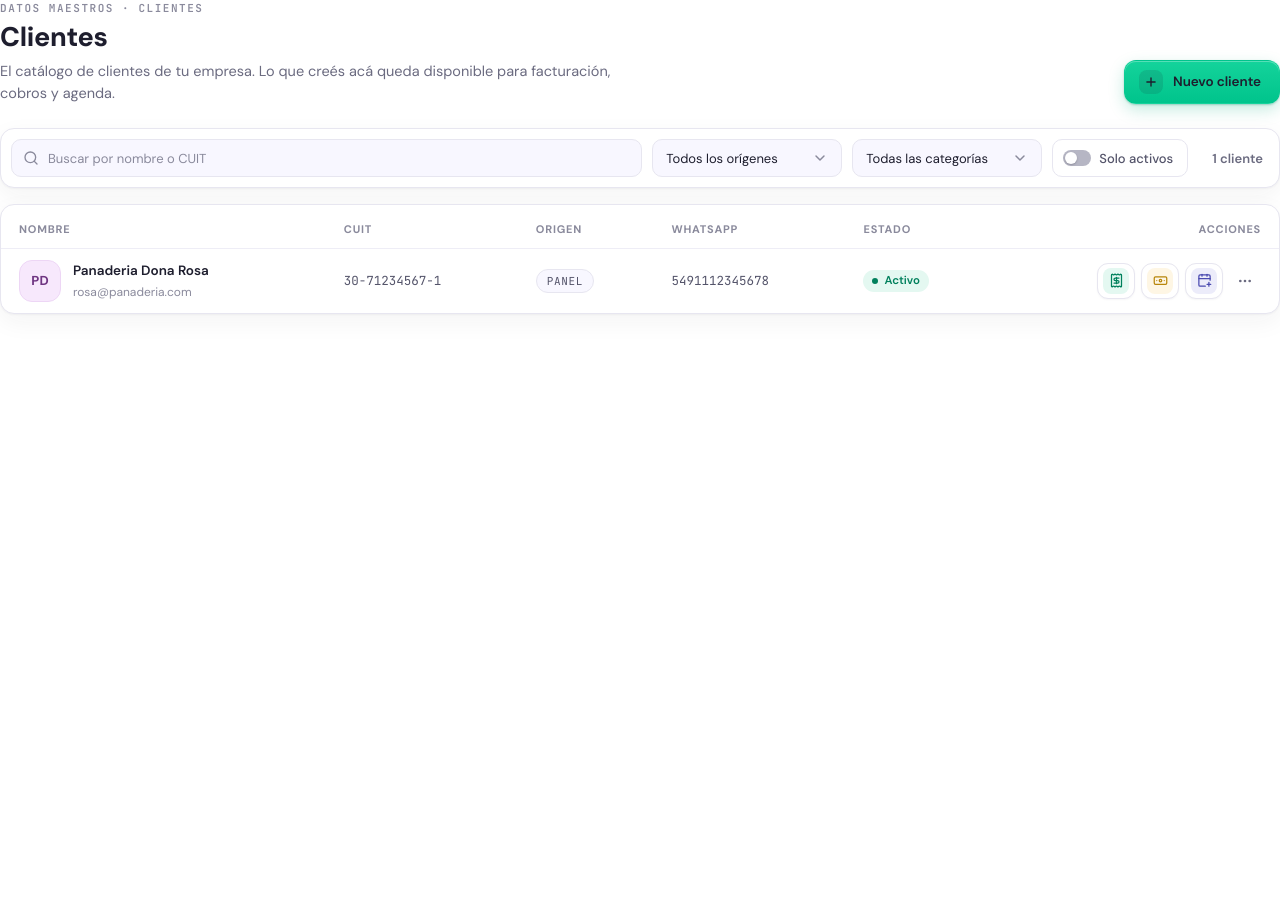
ListadoDeClientes › un fallo que no es del catalogo muestra un mensaje generico
Click the button "Nuevo cliente": (1202, 82) [1124,60,1279,104]
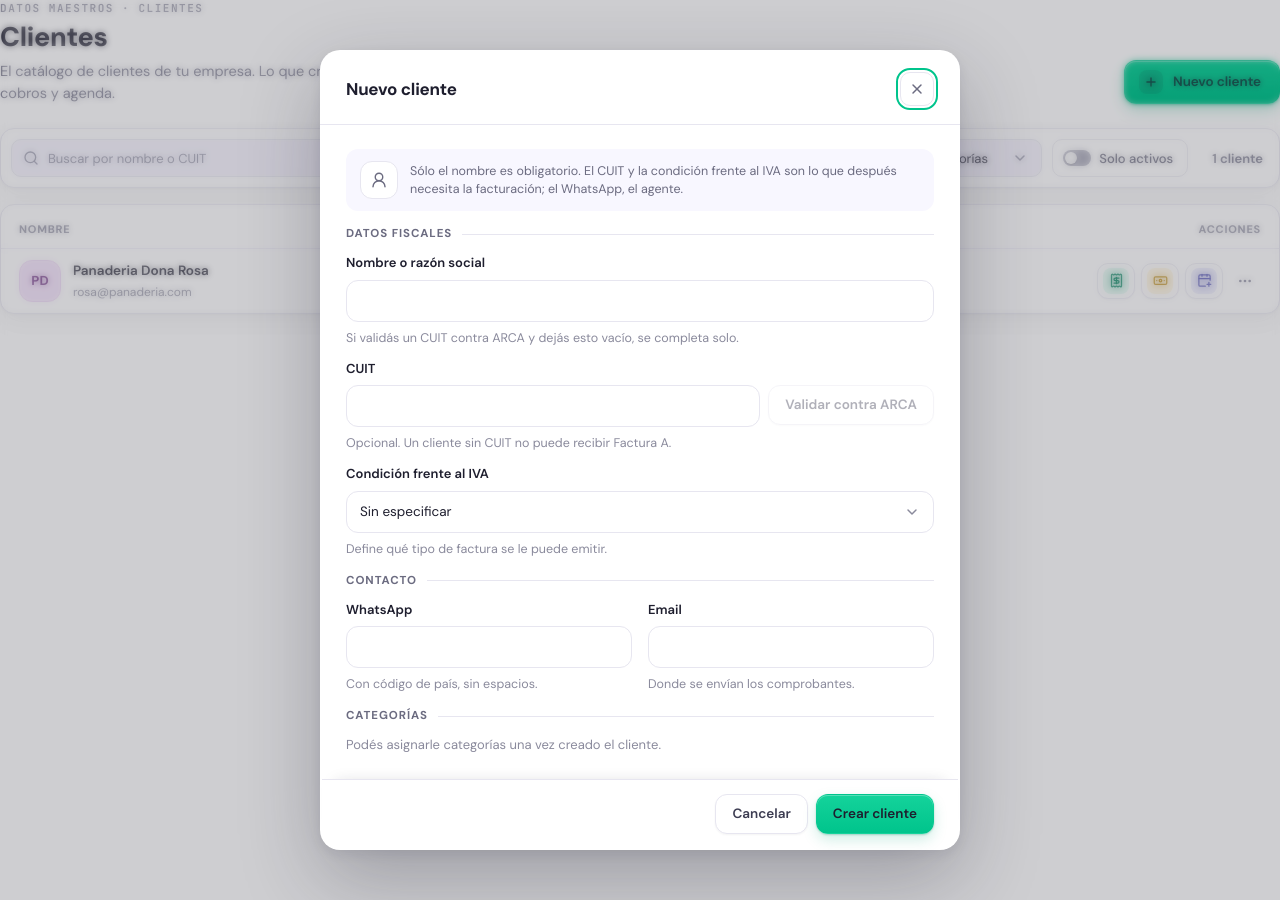
In the field labelled "Nombre o razón social": (640, 301) [346,280,934,322], type "Rosa"
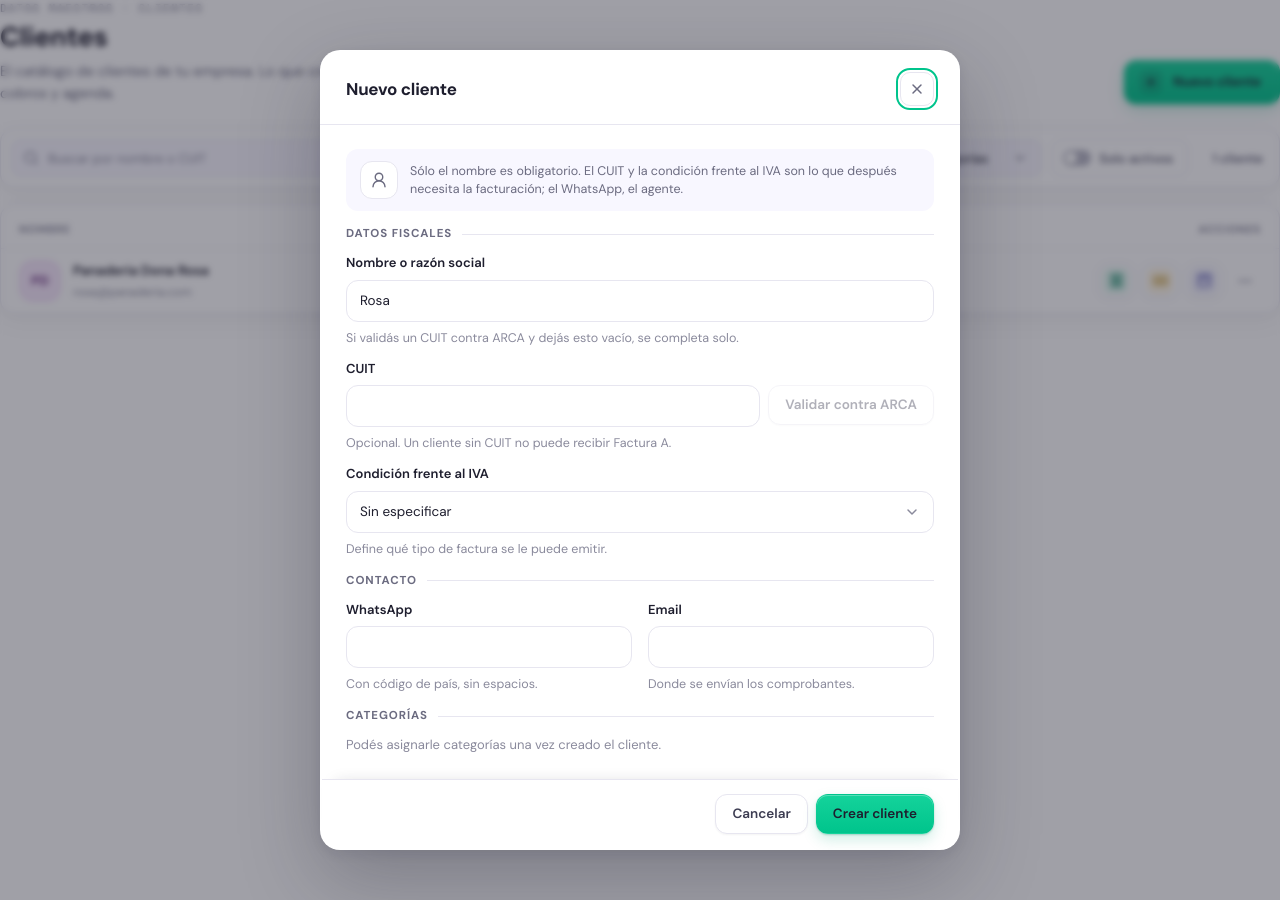
Click the button "Crear cliente": (875, 814) [816,794,934,834]
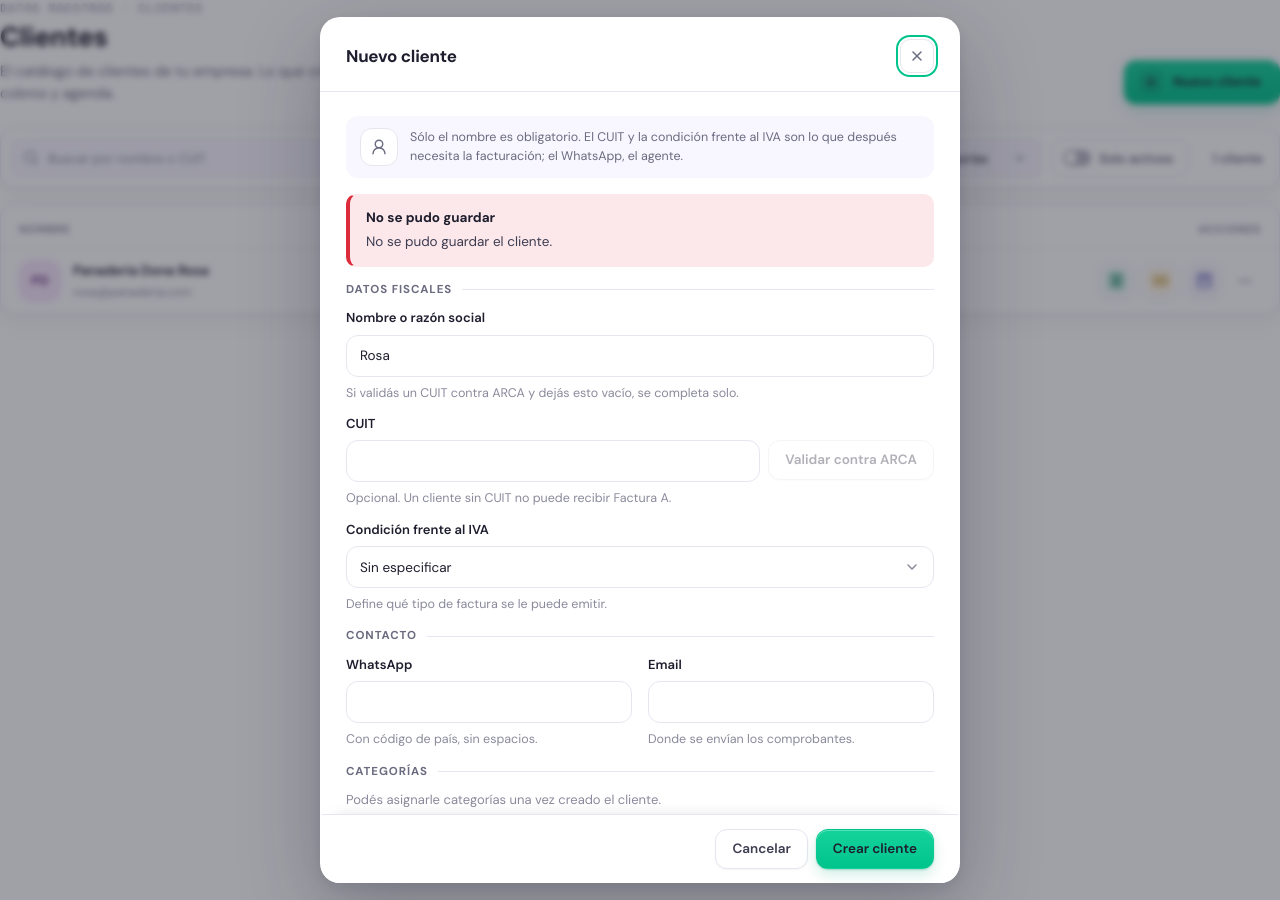
Result: the text "No se pudo guardar el cliente." is shown at [366,233,552,250]
